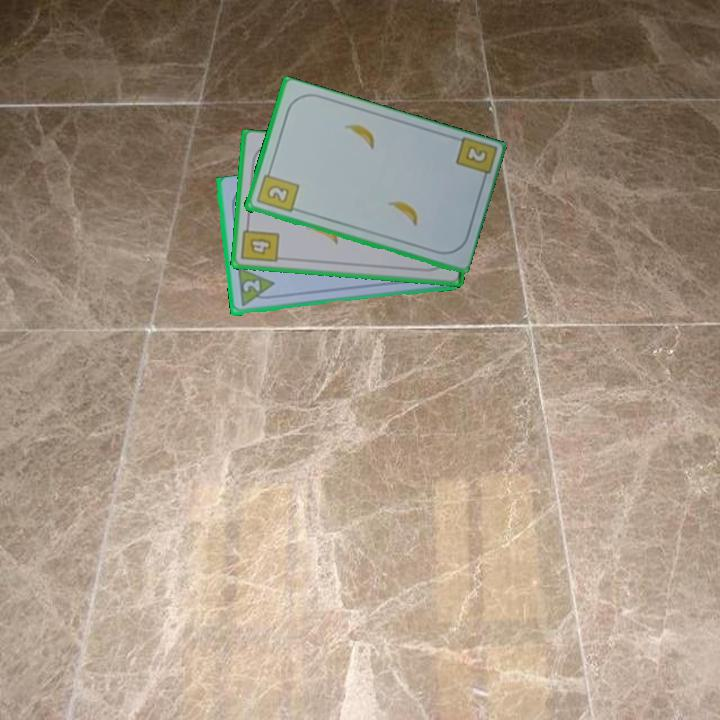2b: (253, 166, 301, 216), (452, 135, 497, 187)
2p: (239, 276, 262, 295)
4b: (238, 220, 282, 265)
